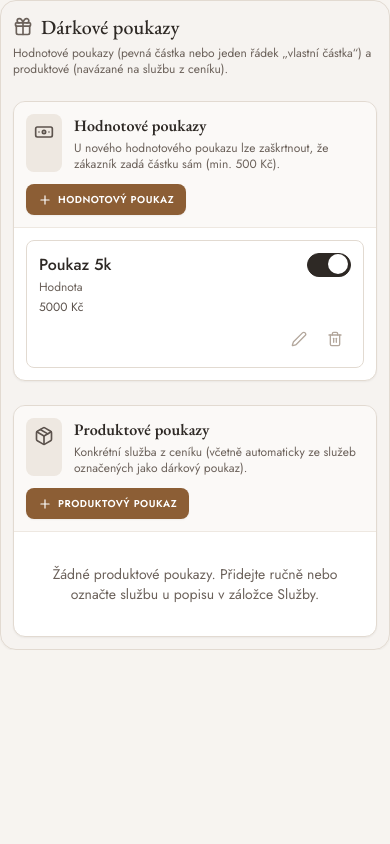
Test: AdminVouchersTab › opens modal in edit mode when Edit is clicked
The width and height of the screenshot is (390, 844).
Click the button named "Upravit Poukaz 5k" at [299, 339], box [283,323,315,355]
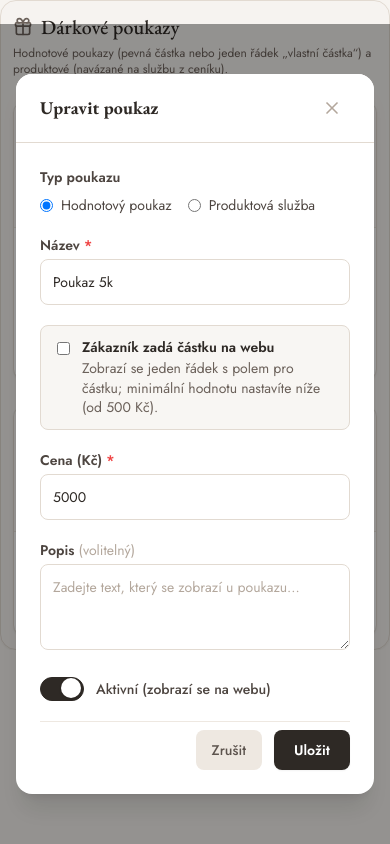
Now the dialog is shown
Now the field showing "Poukaz 5k" is shown, box [40,259,350,305]
Now the number field showing "5000" is shown, box [40,474,350,520]
